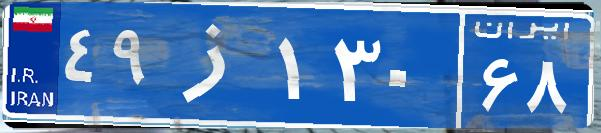0: (385, 28, 445, 110)
1: (273, 28, 330, 110)
3: (330, 28, 385, 110)
4: (57, 26, 110, 107)
6: (475, 38, 525, 113)
8: (525, 38, 570, 115)
9: (110, 28, 158, 105)
ز: (158, 15, 273, 115)
